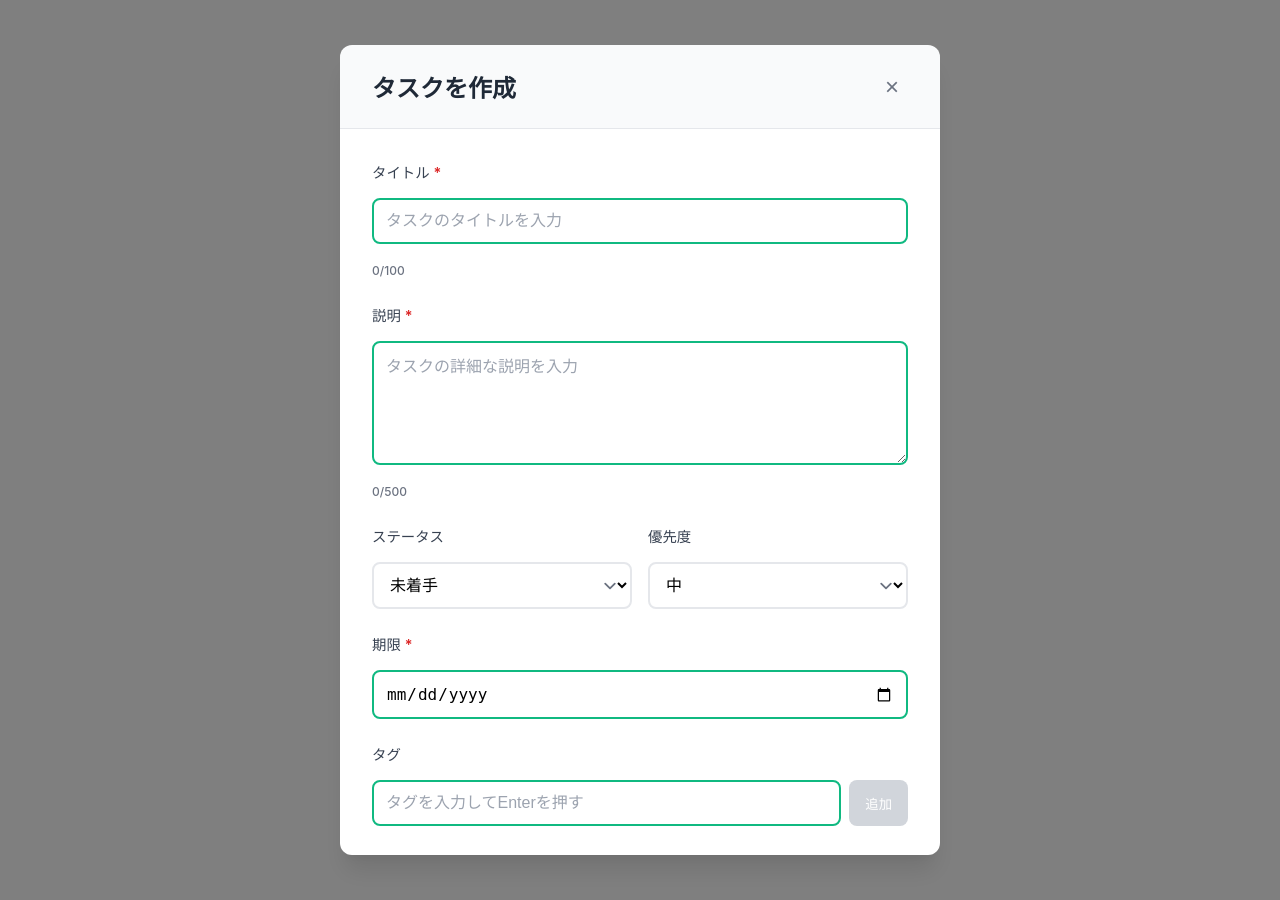
TaskForm Component › enables add tag button when input has text
This screenshot has width=1280, height=900.
Type "test" into the field labelled "タグ" at (607, 803), box [372,780,841,826]
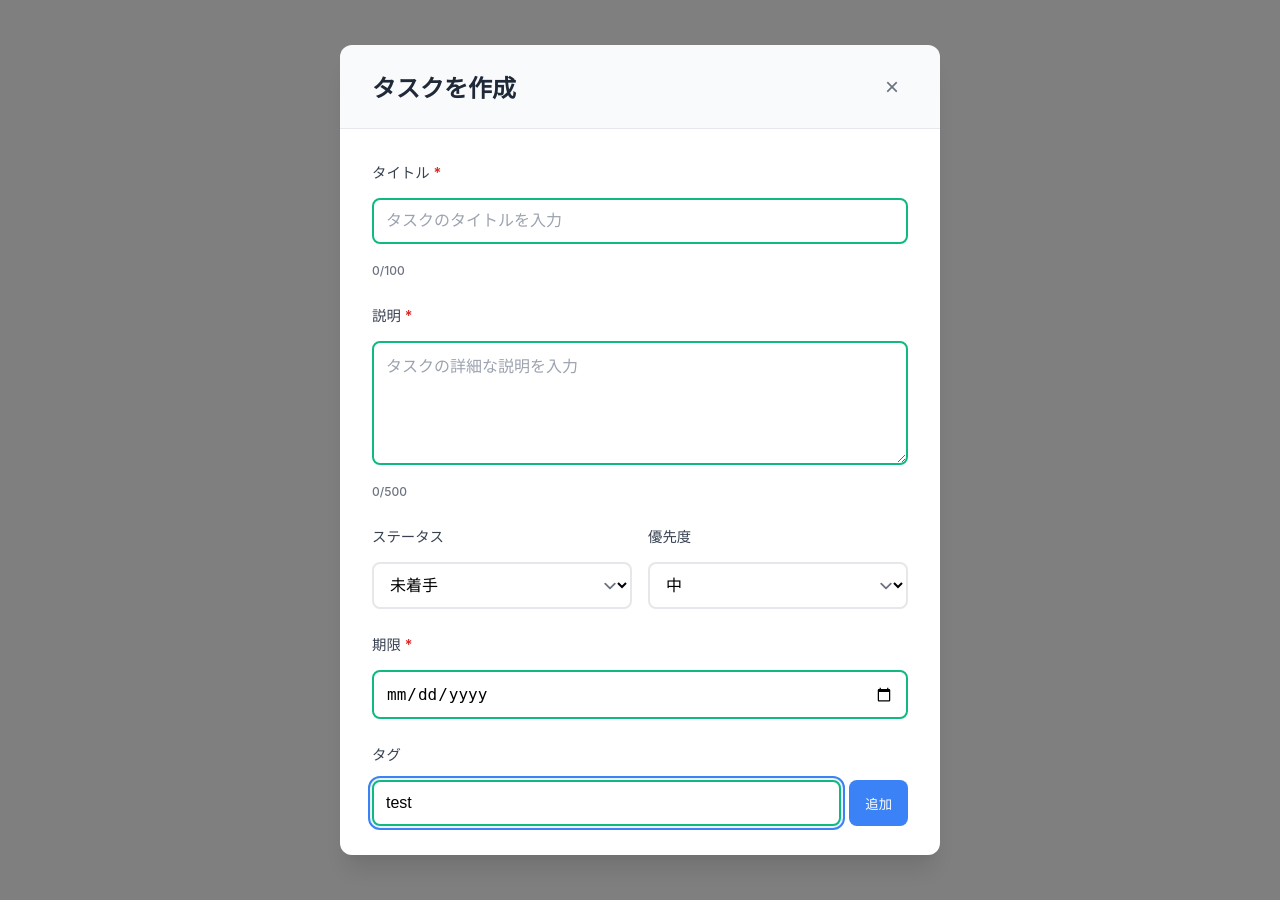
Now the button "追加" is enabled, box [849,780,908,826]
